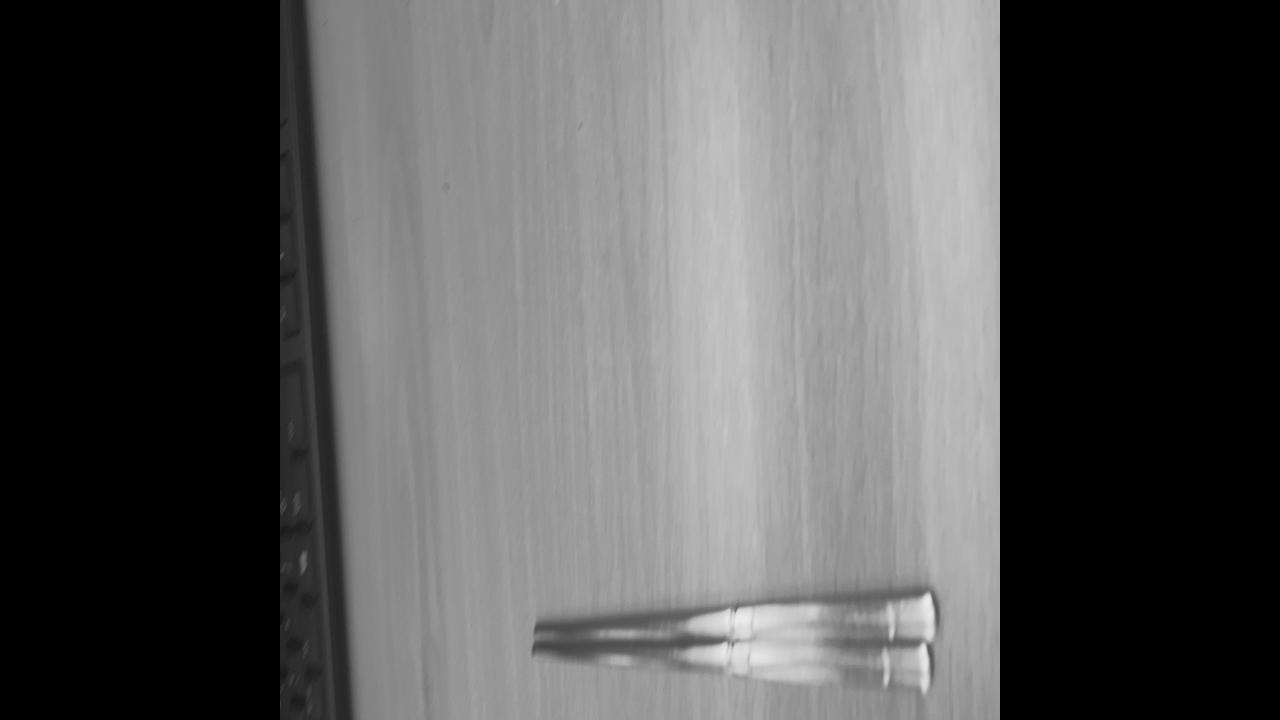chopstick: (534, 581, 940, 691)
